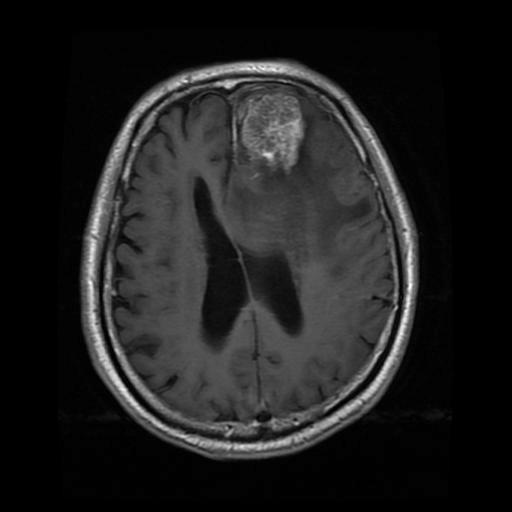Tumour-Pituitary: (215, 92, 328, 176)
